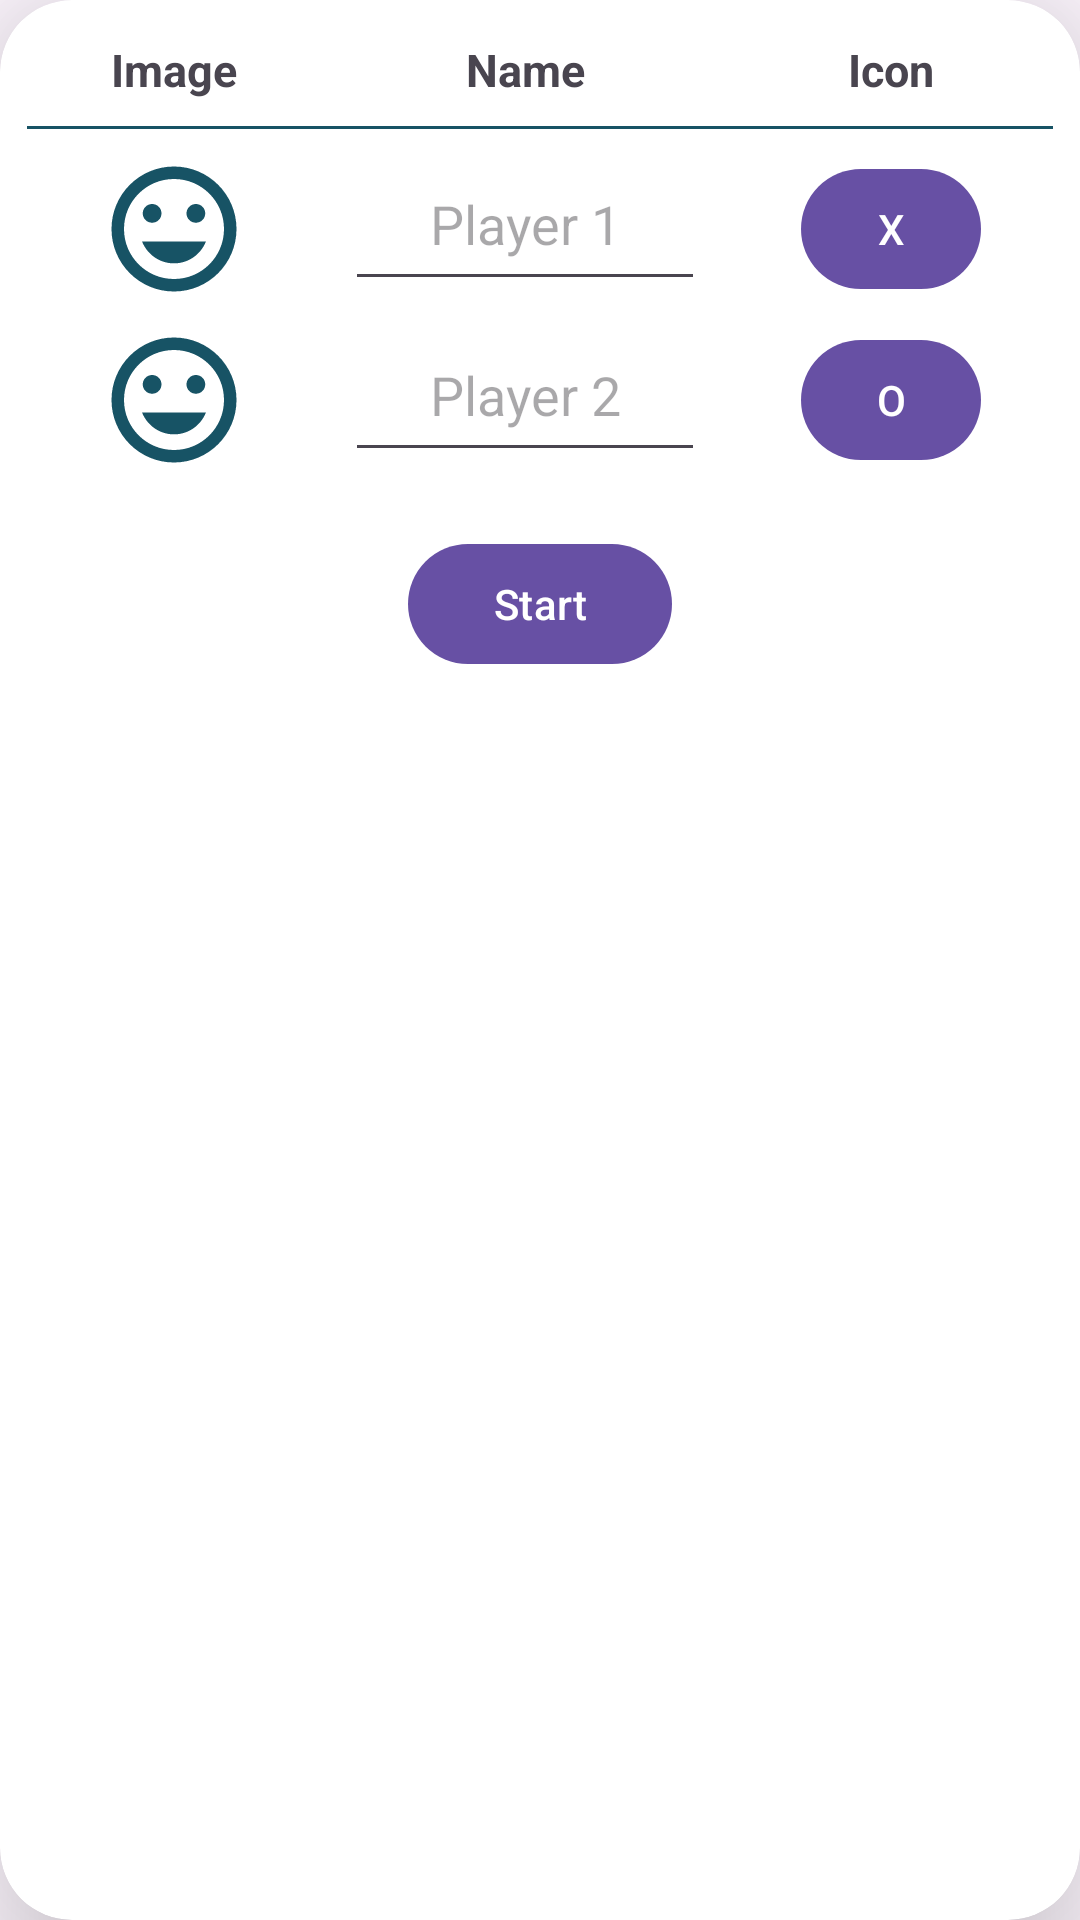

Screen size 1080 × 1920. Icon name, then its box in pixels as box(x1, y1, x2, y2):
tag faces: box(111, 166, 237, 292), box(111, 337, 237, 463)
